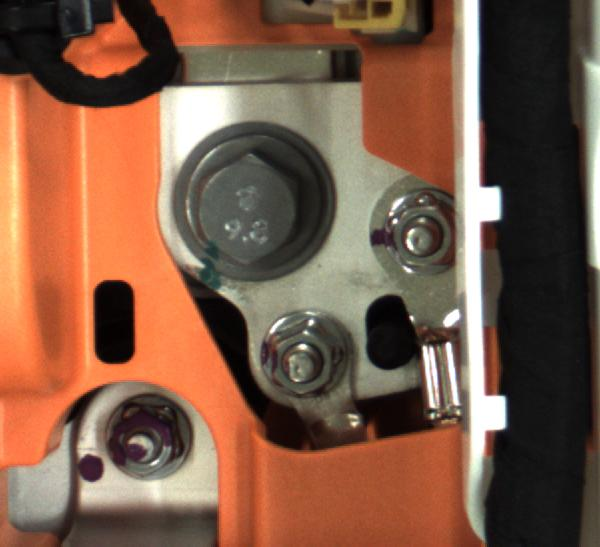nut_b: (158, 129, 328, 273)
screw_s: (102, 389, 198, 481), (259, 307, 347, 402), (387, 183, 463, 279)
